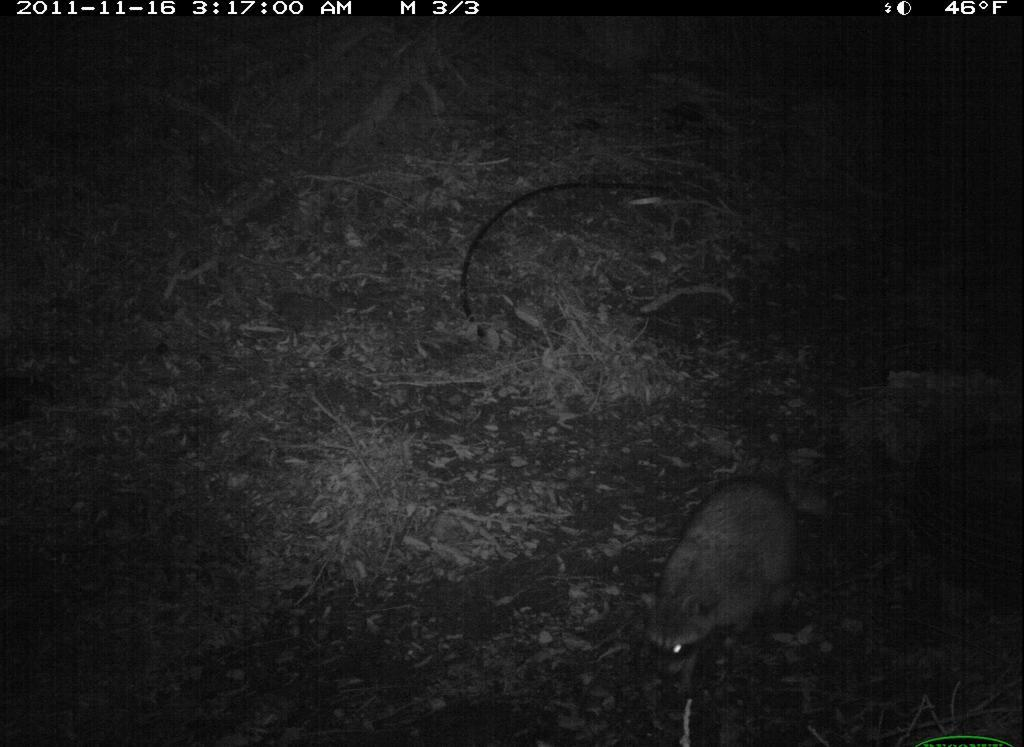raccoon: (637, 474, 808, 675)
